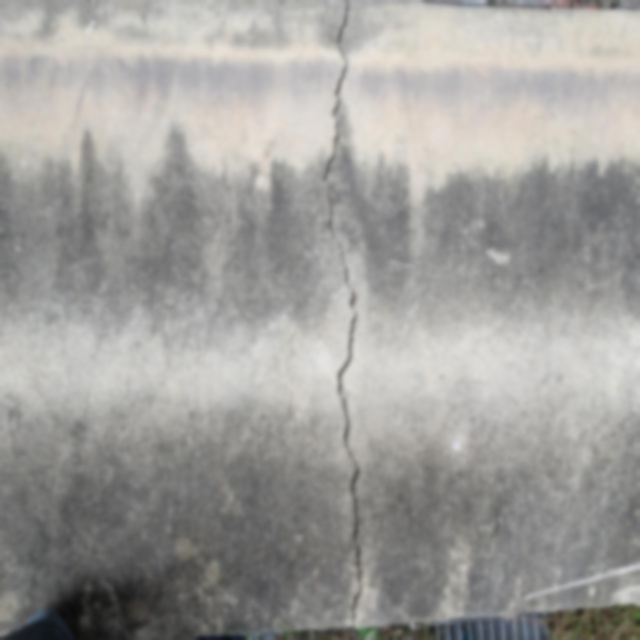SurfaceCrack: (288, 3, 399, 616)
